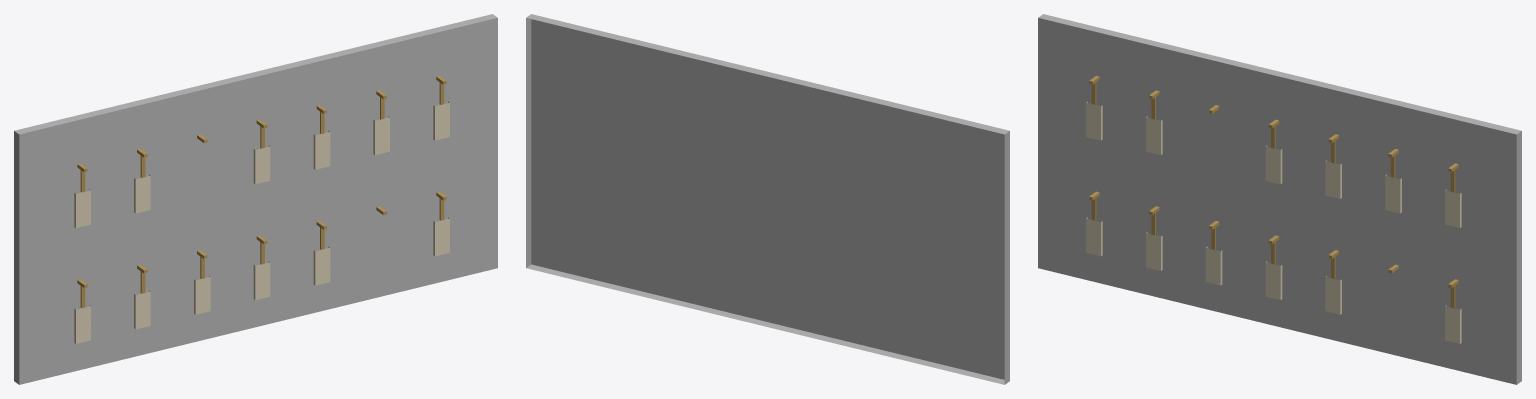
File: key_board.gltf
The picture shows the model from 3 angles, left to right: view 1: azimuth 30°, elevation 25°; view 2: azimuth 150°, elevation 25°; view 3: azimuth 330°, elevation 25°; orthographic projection.
Visible parts, largest first — view 1: Mesh; view 2: Mesh; view 3: Mesh.
Part boxes in pixels (<box>): Mesh: <box>14,14,497,384</box>; Mesh: <box>526,14,1009,384</box>; Mesh: <box>1038,14,1521,384</box>.
Size of the model in its own units: 1.6 by 0.8 by 0.07.
